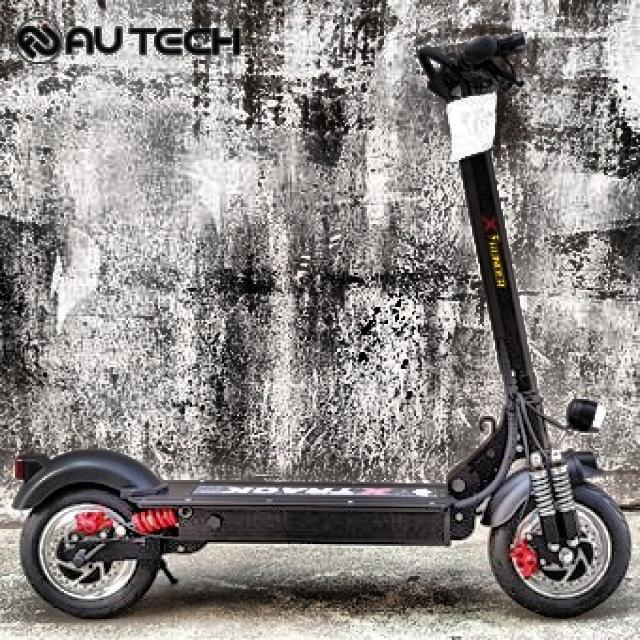bike: (3, 24, 636, 619)
car: (1, 8, 635, 621)
